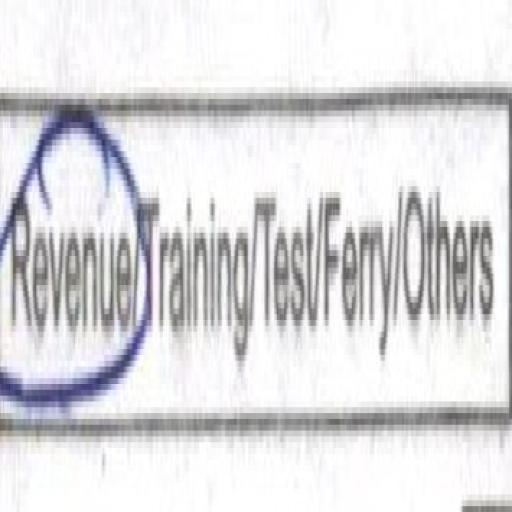check: (0, 64, 140, 467)
